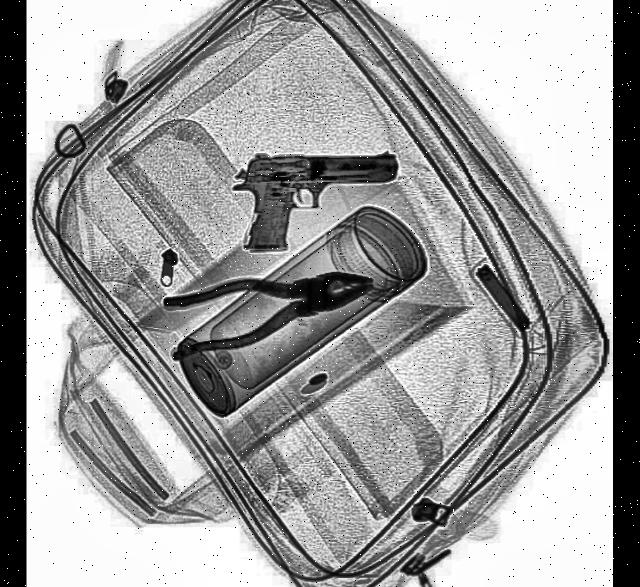Gun: (233, 148, 400, 249)
Pliers: (162, 246, 379, 363)
